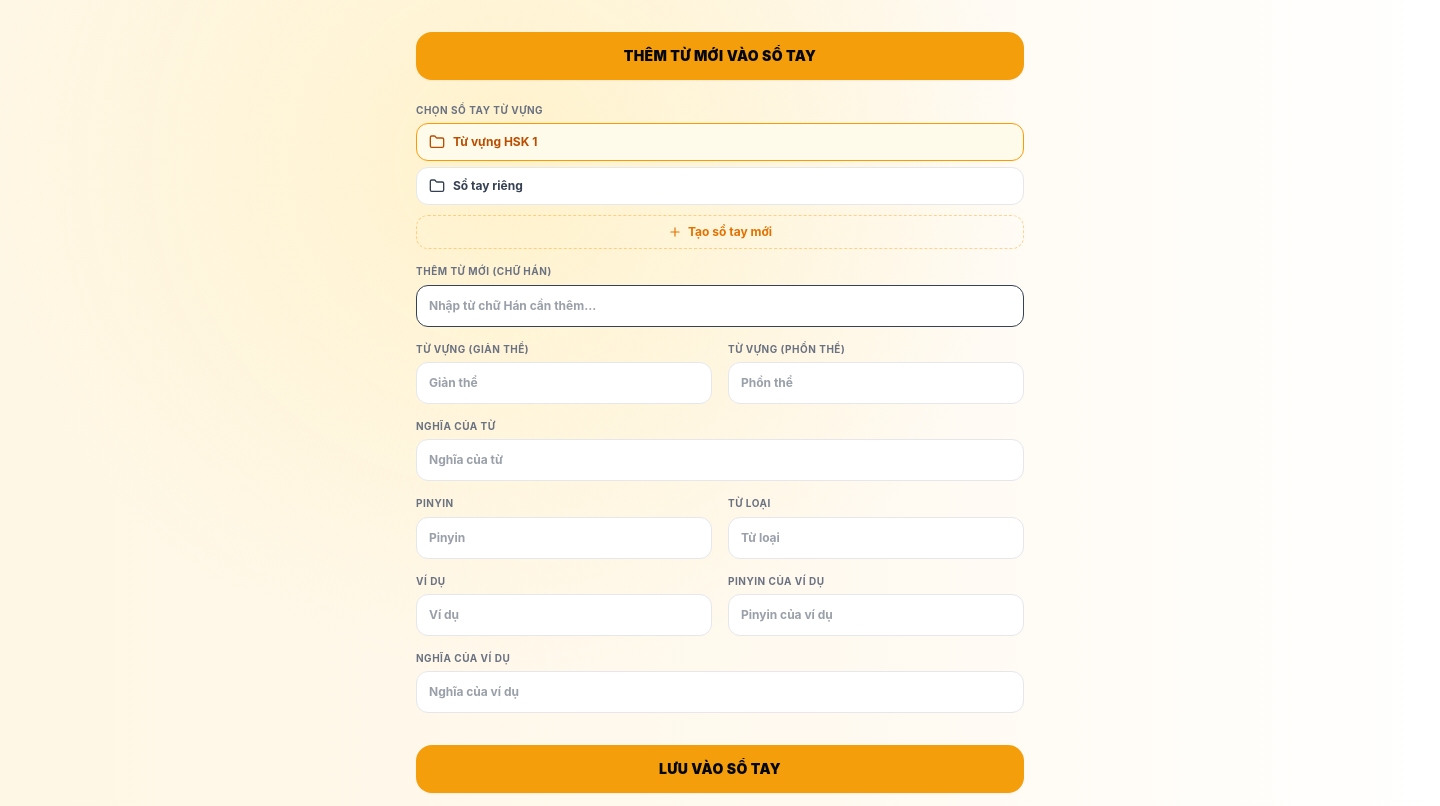
Test case: AddWordForm › shows error message when save fails
Check: the button "Từ vựng HSK 1" is shown, box x1=416 y1=123 x2=1024 y2=161
Type "爱" into the field with placeholder "Nhập từ chữ Hán cần thêm...".
click(720, 306); type("爱")  # box x1=416 y1=285 x2=1024 y2=327
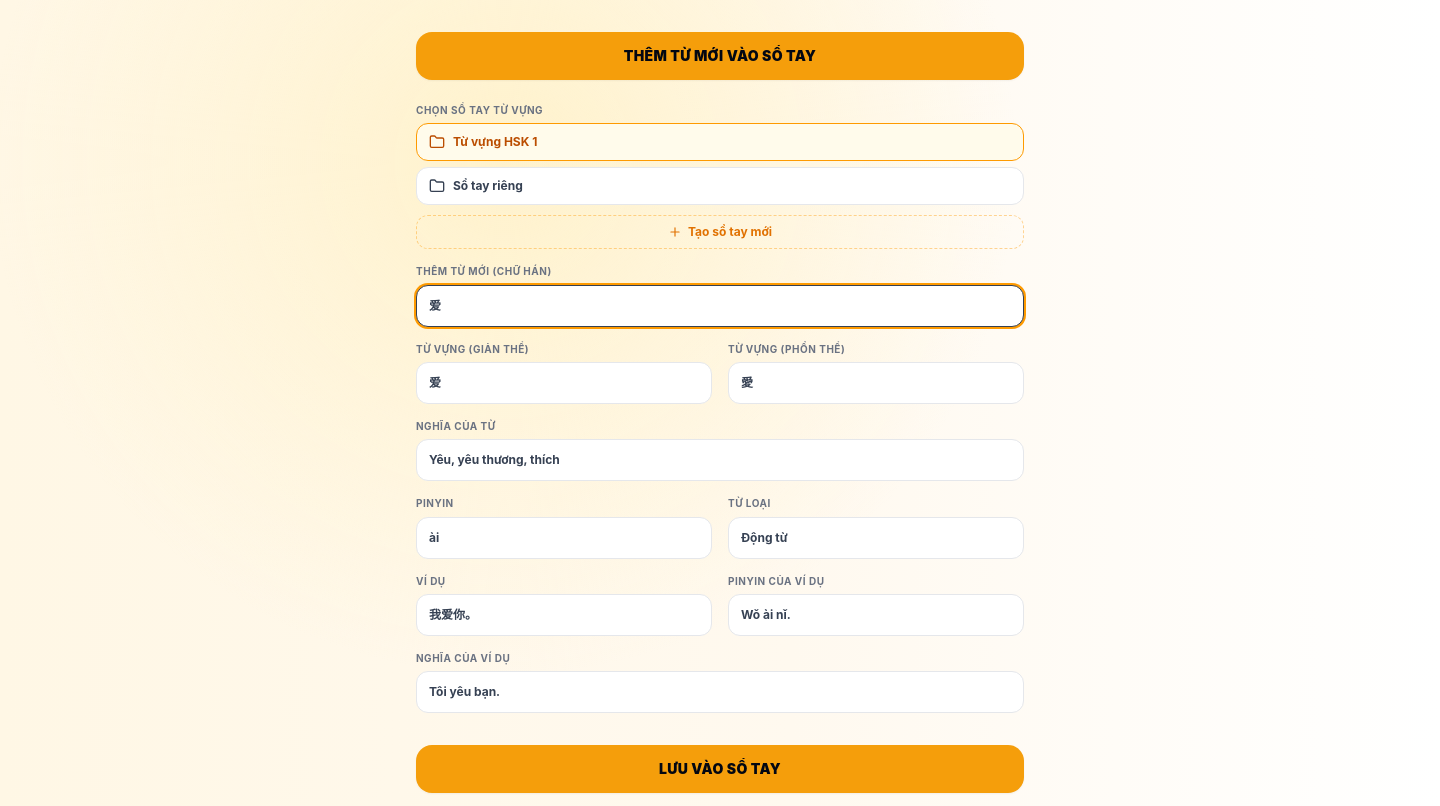
Click the button "Lưu vào sổ tay".
click(720, 769)  # box x1=416 y1=745 x2=1024 y2=793
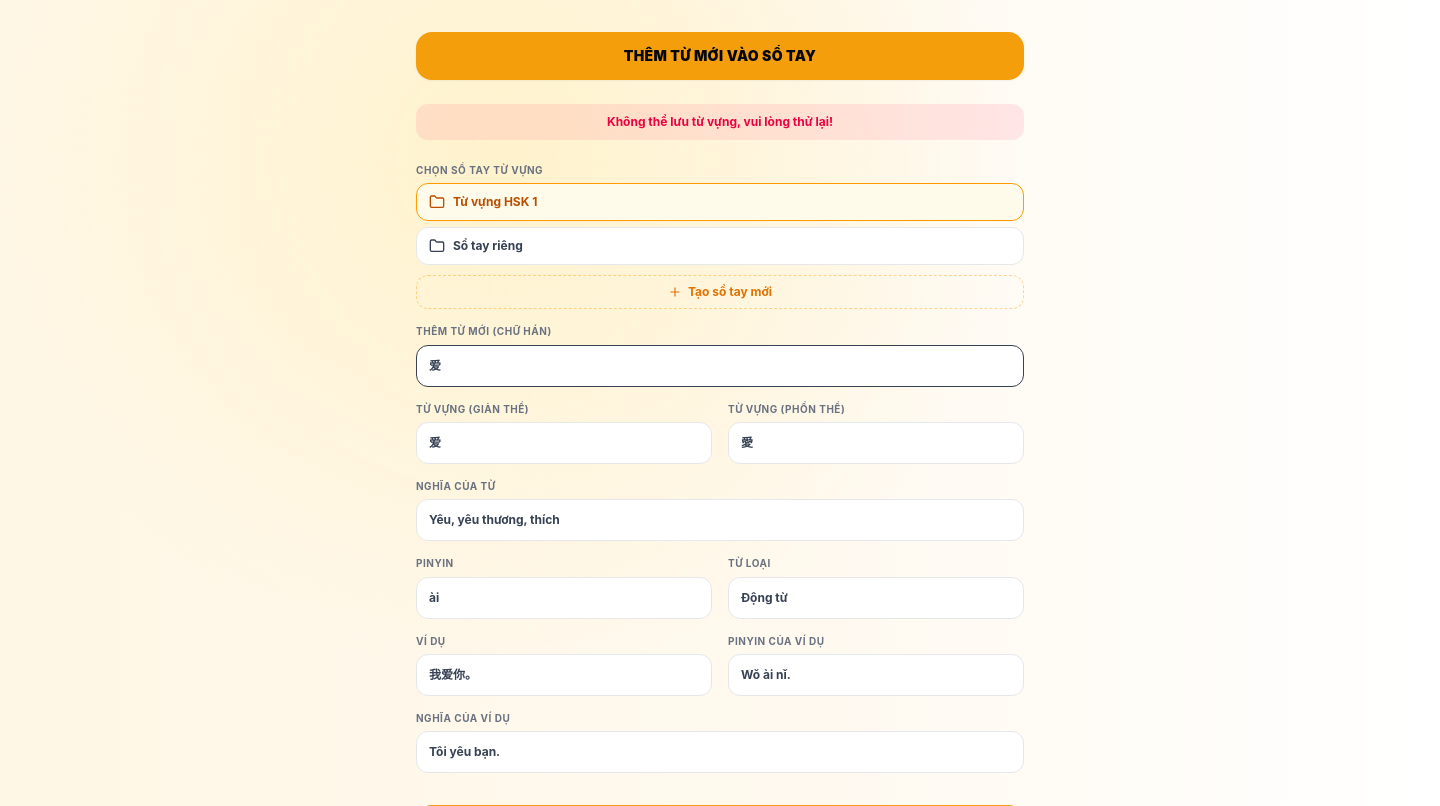
Check: the text "Không thể lưu từ vựng, vui lòng thử lại!" is shown, box x1=416 y1=104 x2=1024 y2=140
